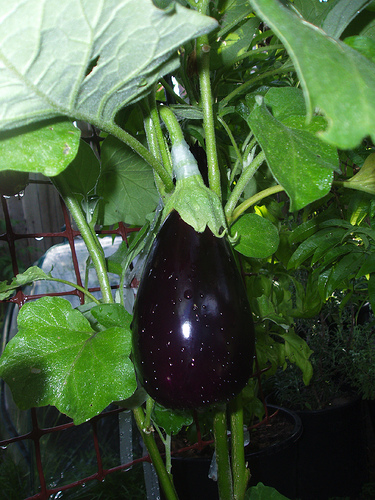eggplant: (125, 154, 260, 411)
